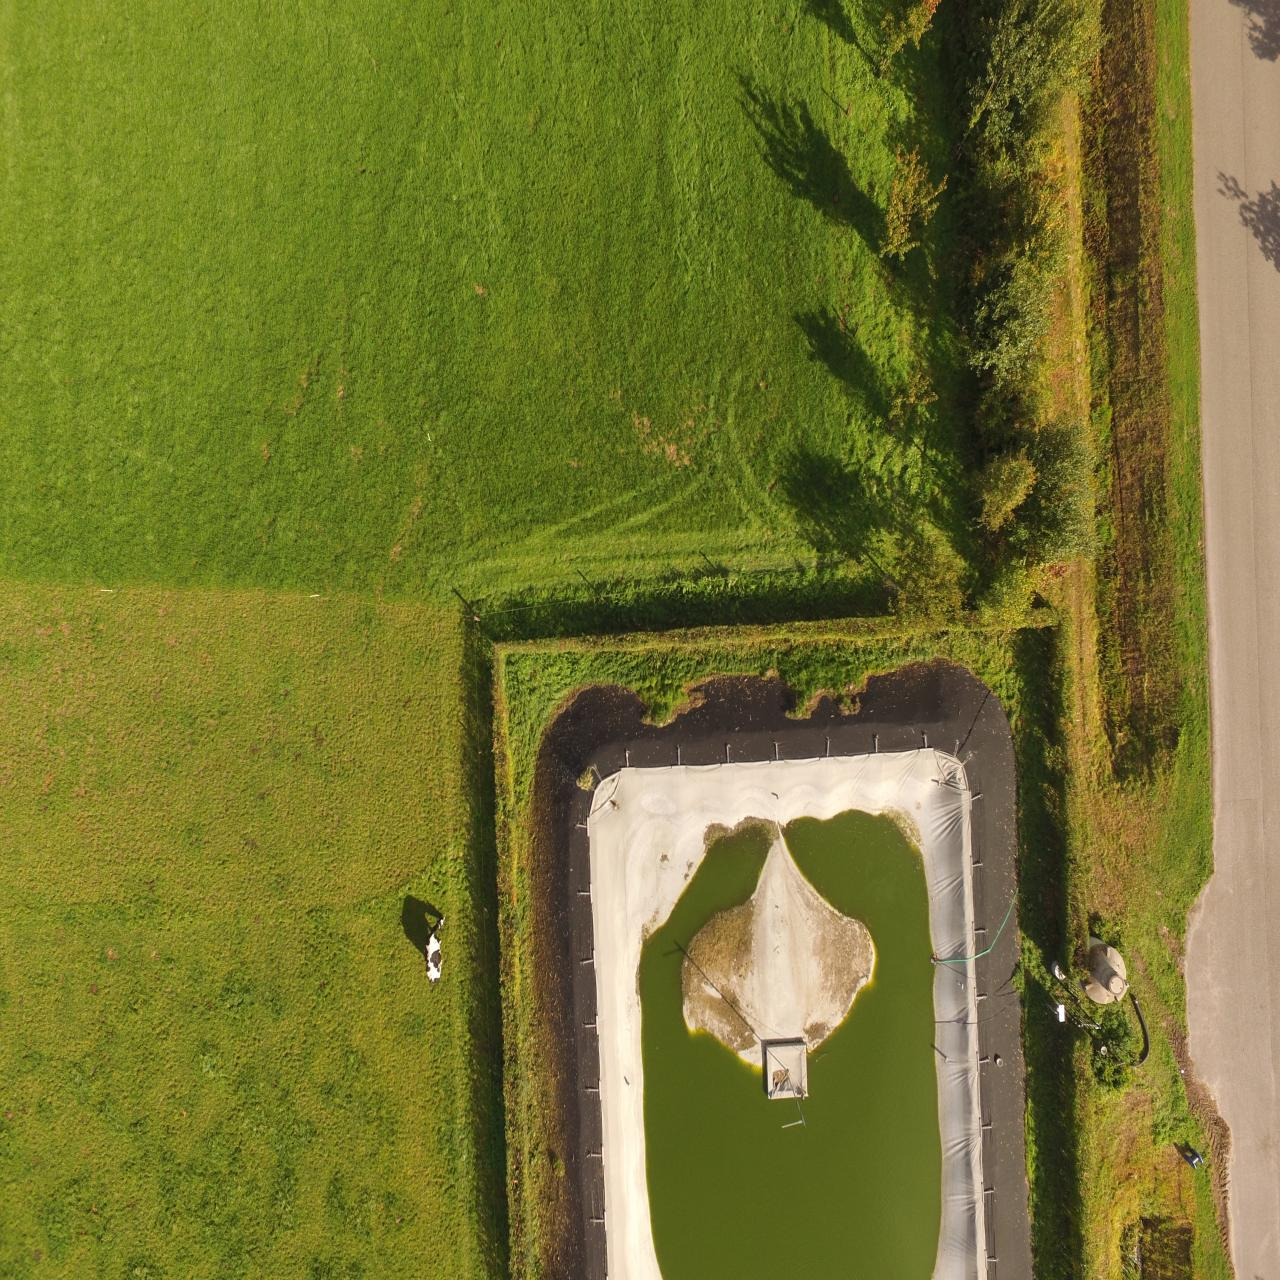cow: (424, 914, 448, 985)
